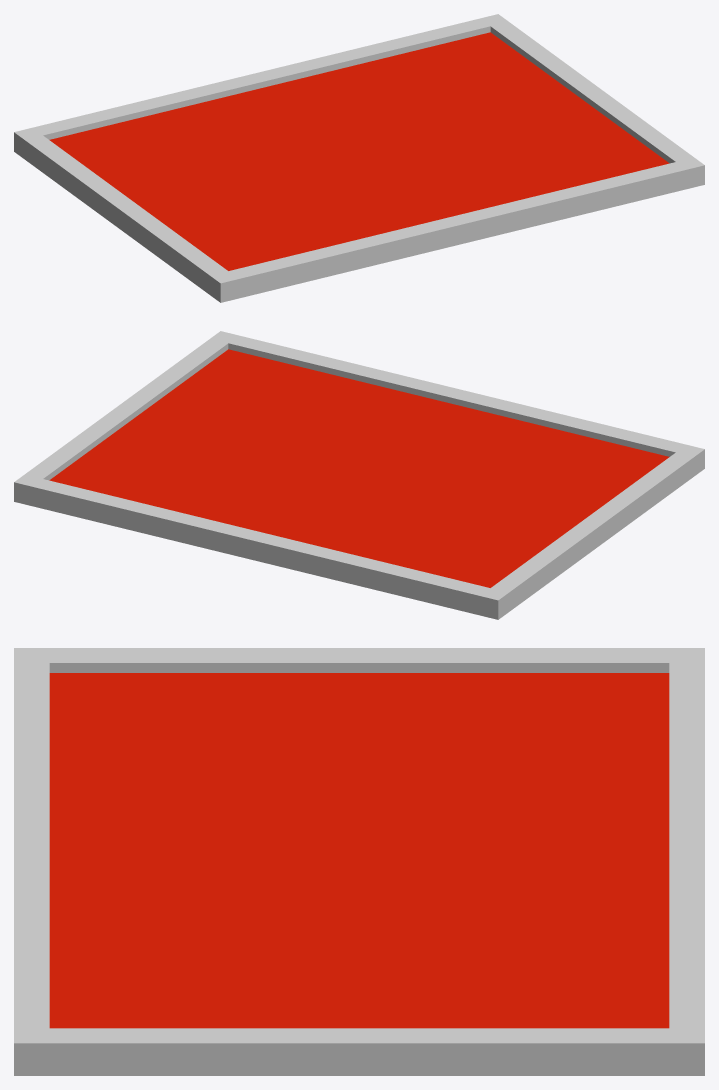
File: Tablo.fbx
3 views of the same model, one above another, from view 1: azimuth 30°, elevation 25°; view 2: azimuth 150°, elevation 25°; view 3: azimuth 270°, elevation 25° (orthographic). The views are drawn at different scales.
Visible parts, largest first — view 1: Cube; view 2: Cube; view 3: Cube.
Part boxes in pixels (left/top/right/bottom): Cube: left=14, top=14, right=704, bottom=302; Cube: left=14, top=331, right=704, bottom=619; Cube: left=14, top=648, right=704, bottom=1075.
Size of the model in its own units: 271 by 10.43 by 200.
